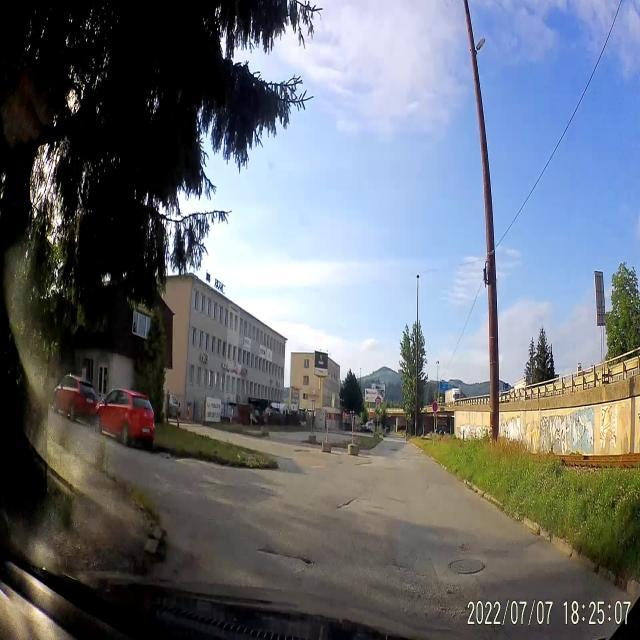Manhole: (442, 551, 488, 581)
Pothole: (252, 541, 316, 575), (332, 494, 357, 516), (349, 454, 375, 472), (290, 444, 323, 456), (387, 443, 402, 455)
